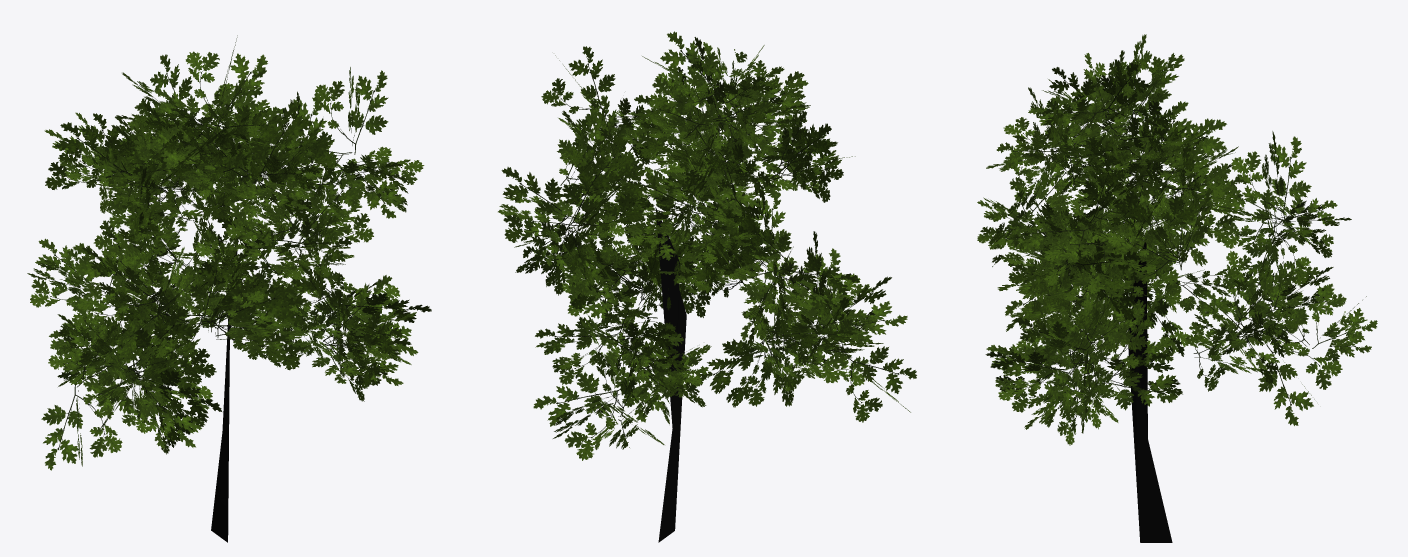
File: maple1 lod2.FBX
The picture shows the model from 3 angles, left to right: view 1: azimuth 30°, elevation 25°; view 2: azimuth 150°, elevation 25°; view 3: azimuth 270°, elevation 25°; orthographic projection. The views are drawn at different scales.
Visible parts, largest first — view 1: maple1_LOD2; view 2: maple1_LOD2; view 3: maple1_LOD2.
Boxes of the visible parts, x1,y1,x2,y2 form: maple1_LOD2: (27, 35, 431, 542); maple1_LOD2: (498, 31, 916, 542); maple1_LOD2: (977, 34, 1377, 542).
Bounding box in the file's own units: 75381 × 95216 × 74340.
